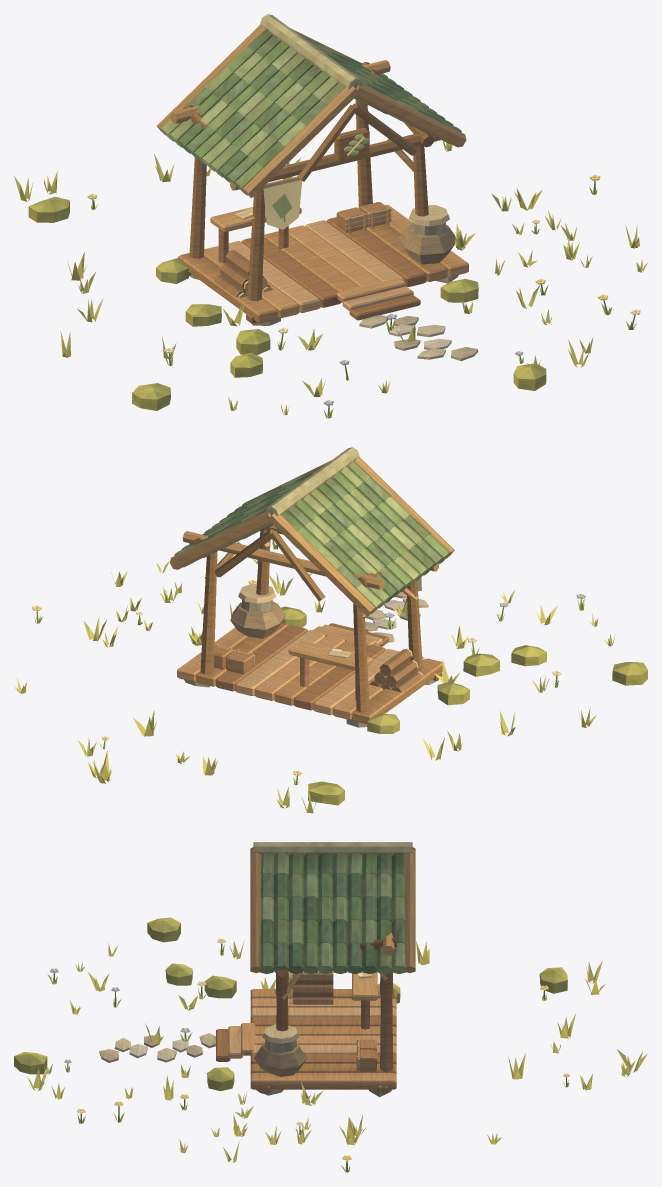
The model's file is watch_fern.glb.
3 views of the same model, one above another, from view 1: azimuth 30°, elevation 25°; view 2: azimuth 150°, elevation 25°; view 3: azimuth 270°, elevation 25° (orthographic). The views are drawn at different scales.
Visible parts, largest first — view 1: Wegwacht · fern; view 2: Wegwacht · fern; view 3: Wegwacht · fern.
Boxes of the visible parts, x1=… form: Wegwacht · fern: x1=14, y1=14, x2=647, y2=418; Wegwacht · fern: x1=14, y1=447, x2=647, y2=813; Wegwacht · fern: x1=14, y1=842, x2=647, y2=1172.
Bounding box in the file's own units: 10.06 × 3.85 × 10.64.
Materials: 4 (3 with a texture image).
